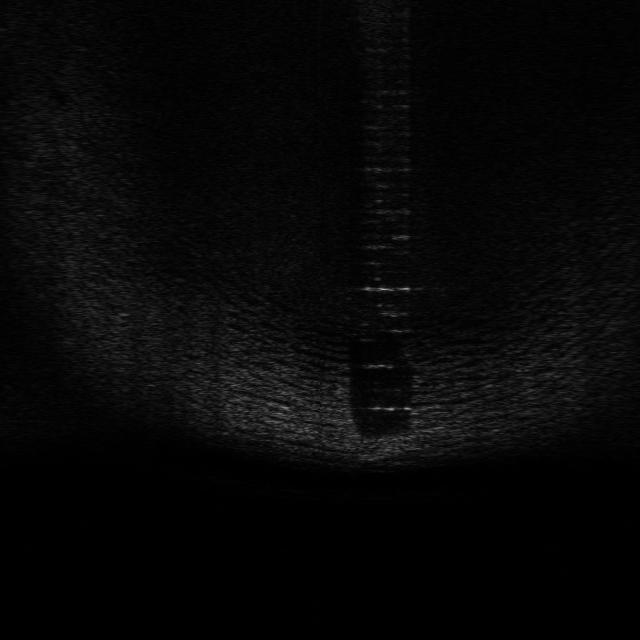cube: (359, 432, 418, 462)
